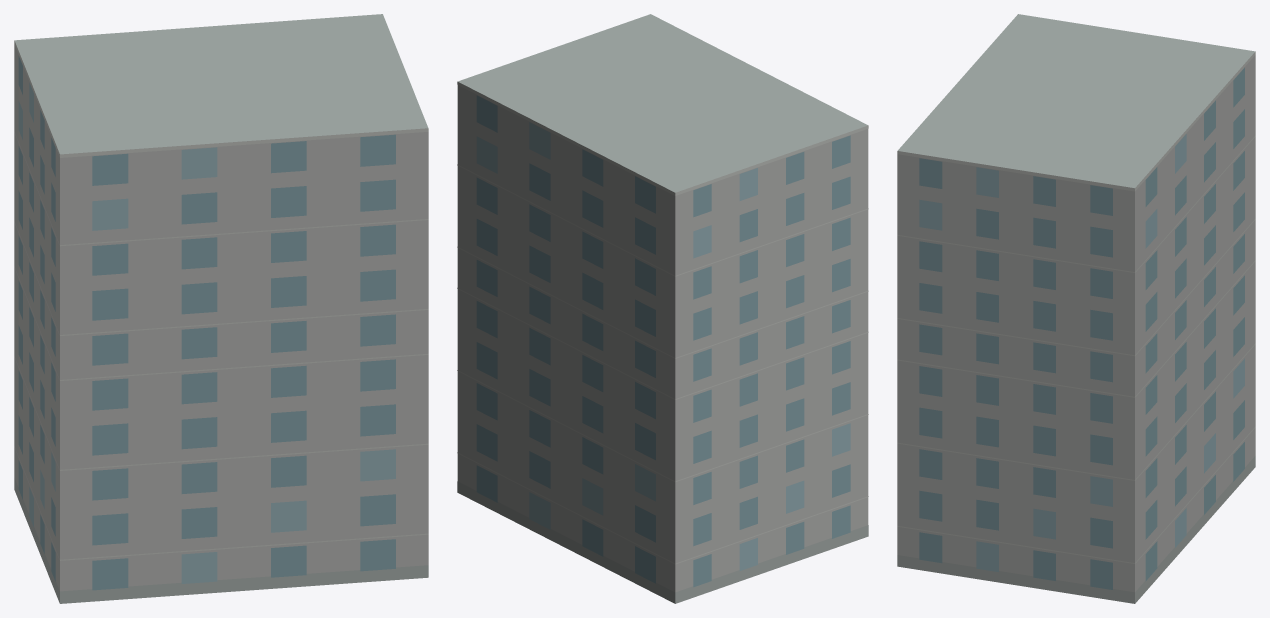
The model's file is residential-8ae78dae-bf82-4a6e-9908-802bfc7689be.glb.
3 views of the same model, side by side, from view 1: azimuth 30°, elevation 25°; view 2: azimuth 150°, elevation 25°; view 3: azimuth 270°, elevation 25° (orthographic). The views are drawn at different scales.
Visible parts, largest first — view 1: residential-8ae78dae-bf82-4a6e-9908-802bfc7689be.tmp; view 2: residential-8ae78dae-bf82-4a6e-9908-802bfc7689be.tmp; view 3: residential-8ae78dae-bf82-4a6e-9908-802bfc7689be.tmp.
Boxes of the visible parts, x1=… form: residential-8ae78dae-bf82-4a6e-9908-802bfc7689be.tmp: x1=14, y1=14, x2=428, y2=603; residential-8ae78dae-bf82-4a6e-9908-802bfc7689be.tmp: x1=457, y1=14, x2=868, y2=603; residential-8ae78dae-bf82-4a6e-9908-802bfc7689be.tmp: x1=897, y1=14, x2=1255, y2=603.
Size of the model in its own units: 27.44 by 30.5 by 23.84.
